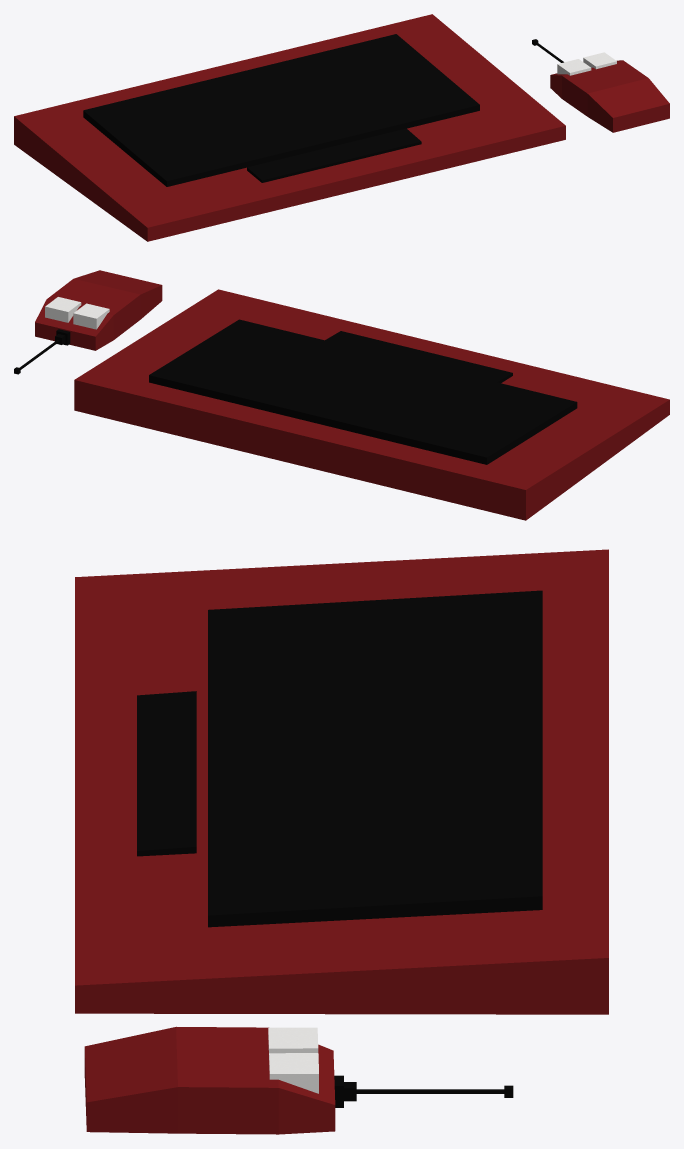
File: MouseAndKeyboard.fbx
3 views of the same model, one above another, from view 1: azimuth 30°, elevation 25°; view 2: azimuth 150°, elevation 25°; view 3: azimuth 270°, elevation 25° (orthographic). The views are drawn at different scales.
Visible parts, largest first — view 1: Cube.019, Cube.020, Cube.022, Cube.023; view 2: Cube.019, Cube.020, Cube.022, Cube.023, Cube.026; view 3: Cube.019, Cube.020, Cube.022, Cube.023, Cube.026.
Boxes of the visible parts, box(x1,y1,x2,y2) form: Cube.019: box(14, 14, 565, 241); Cube.020: box(83, 34, 479, 186); Cube.022: box(550, 60, 669, 132); Cube.023: box(557, 52, 616, 75); Cube.019: box(74, 289, 669, 520); Cube.020: box(149, 319, 577, 464); Cube.022: box(35, 270, 162, 350); Cube.023: box(45, 297, 109, 329); Cube.026: box(14, 329, 70, 374); Cube.019: box(75, 549, 608, 1014); Cube.020: box(137, 590, 542, 927); Cube.022: box(84, 1026, 335, 1134); Cube.023: box(268, 1027, 318, 1093); Cube.026: box(334, 1075, 513, 1107).
Size of the model in its own units: 380 by 28.06 by 167.
